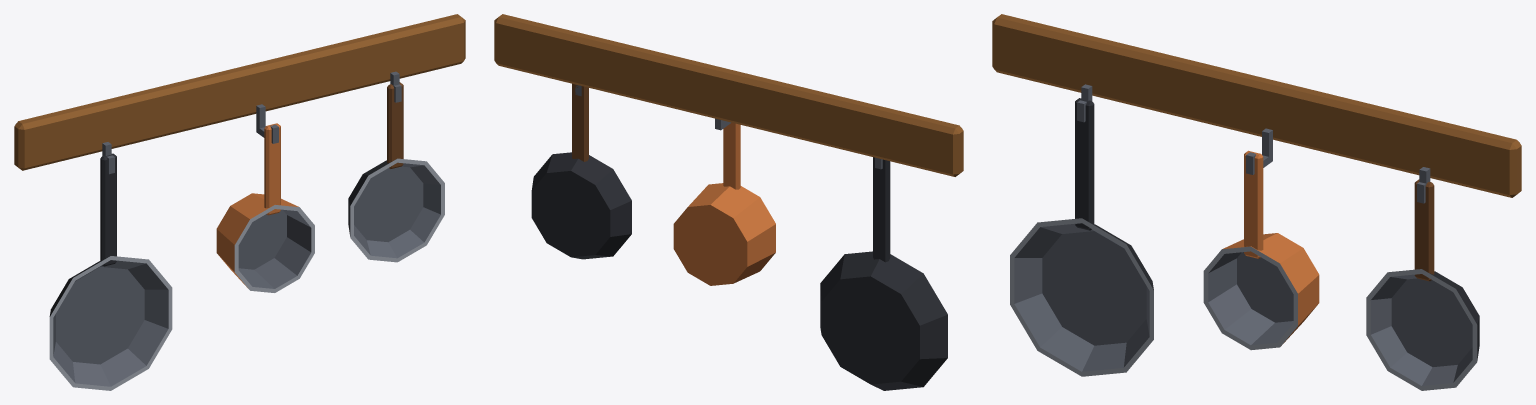
The model's file is Prop_HangingPans.fbx.
3 renders of one model, left to right at view 1: azimuth 30°, elevation 25°; view 2: azimuth 150°, elevation 25°; view 3: azimuth 330°, elevation 25°, orthographic. The views are drawn at different scales.
Parts seen in each view (by area): view 1: Prop_HangingPans; view 2: Prop_HangingPans; view 3: Prop_HangingPans.
Boxes of the visible parts, x1,y1,x2,y2 form: Prop_HangingPans: (14, 14, 465, 390); Prop_HangingPans: (494, 14, 963, 390); Prop_HangingPans: (992, 14, 1521, 390).
Size of the model in its own units: 0.9 by 0.54 by 0.089.
